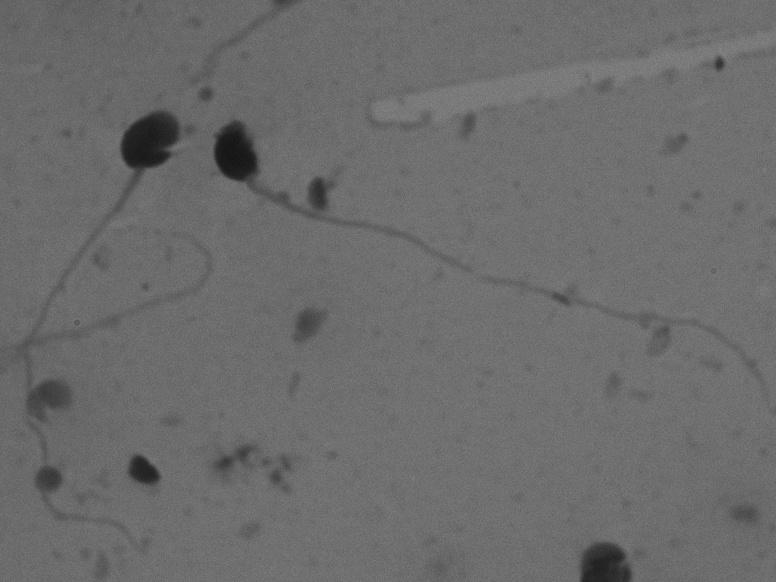Abnormal: (200, 105, 739, 428), (8, 60, 196, 560)
